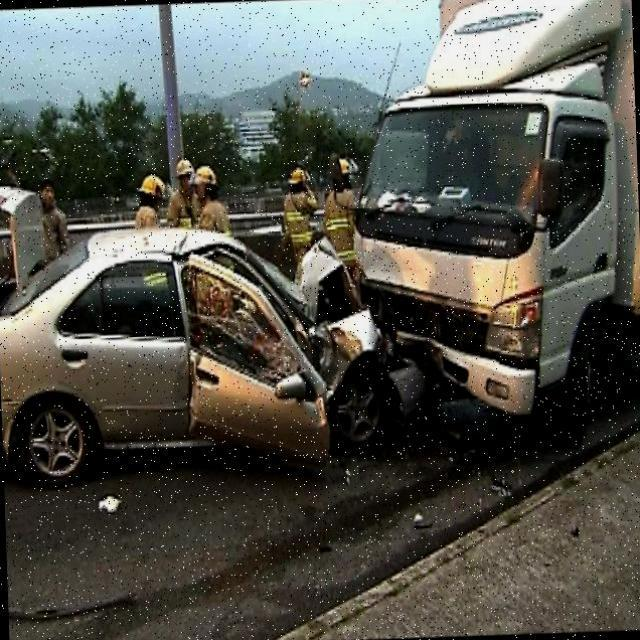accident: (171, 198, 557, 482)
